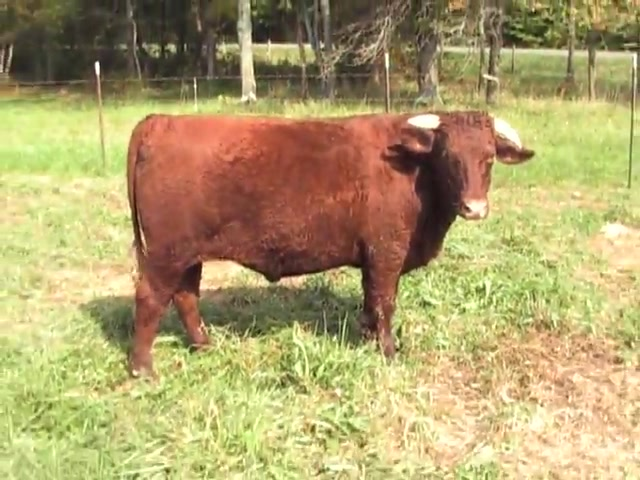cow: (129, 106, 536, 386)
